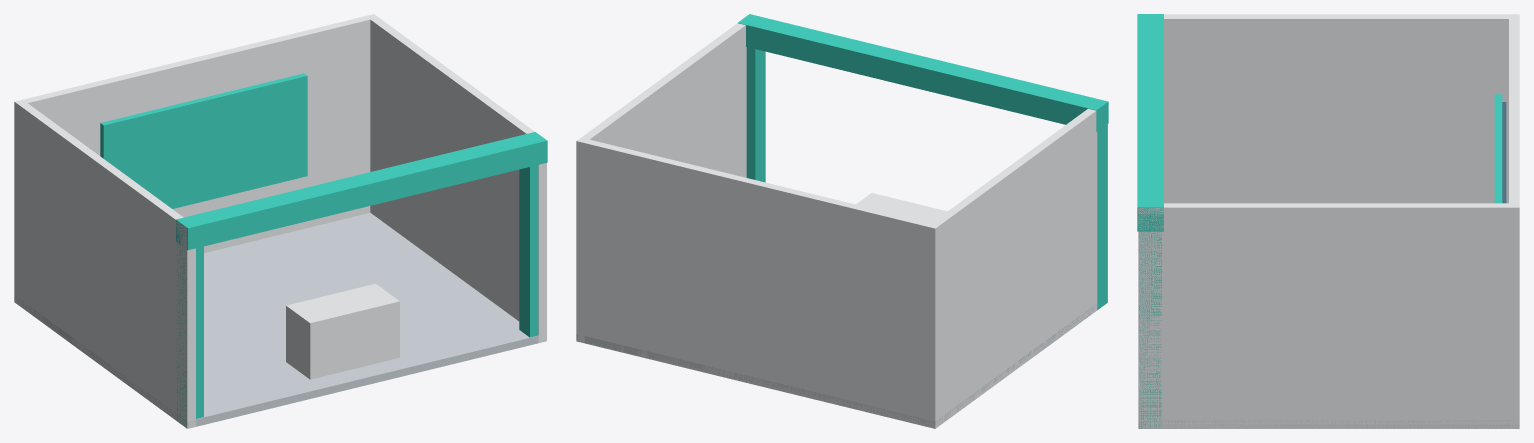
The picture shows the model from 3 angles, left to right: view 1: azimuth 30°, elevation 25°; view 2: azimuth 150°, elevation 25°; view 3: azimuth 270°, elevation 25°; orthographic projection. The views are drawn at different scales.
Parts seen in each view (by area): view 1: Exhibition Booth Concept; view 2: Exhibition Booth Concept; view 3: Exhibition Booth Concept.
Boxes of the visible parts, x1,y1,x2,y2 form: Exhibition Booth Concept: [14, 14, 547, 428]; Exhibition Booth Concept: [576, 14, 1108, 428]; Exhibition Booth Concept: [1137, 14, 1519, 428].
Size of the model in its own units: 6 by 3.2 by 5.02.
